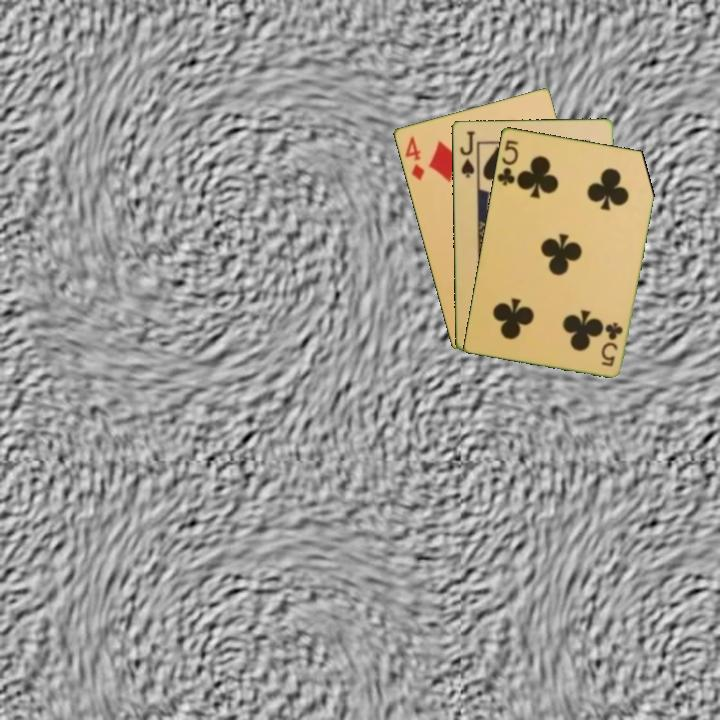4d: (401, 133, 427, 183)
5c: (597, 318, 625, 369), (494, 136, 521, 188)
Js: (456, 127, 478, 180)
